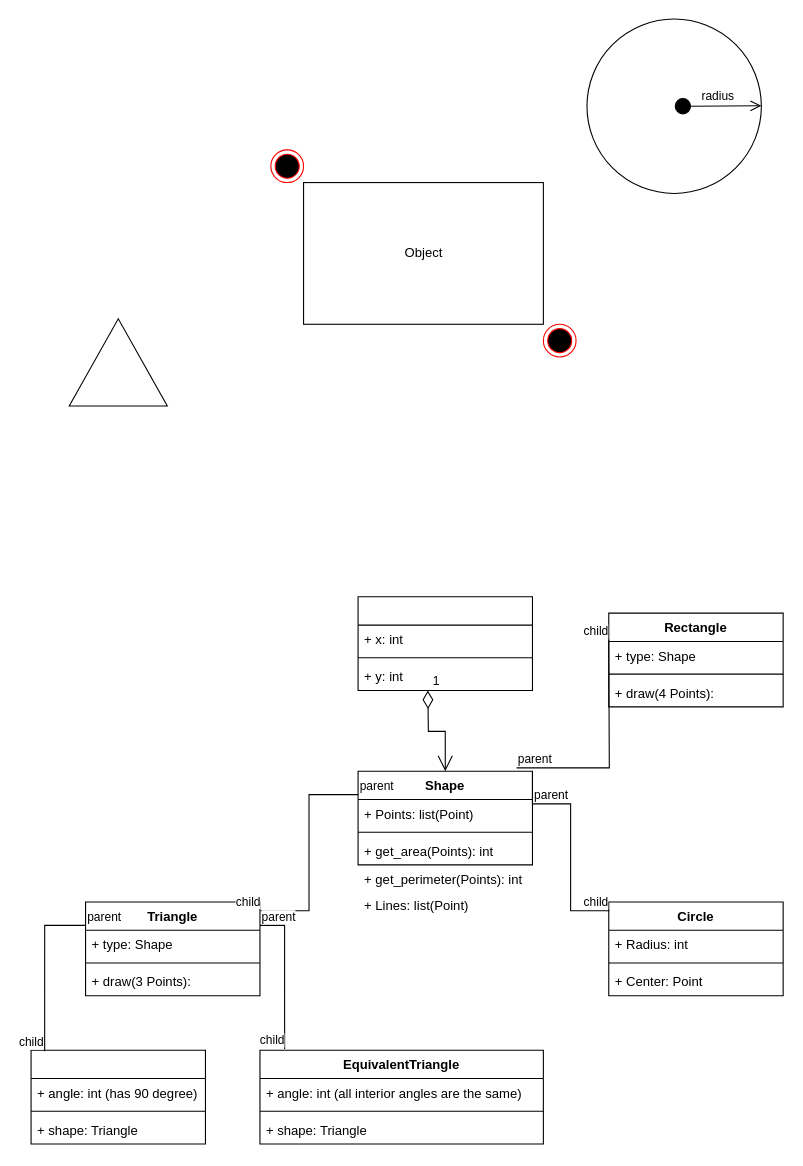
The diagram is 803 pixels wide and 1166 high, and some of its shapes have lost their labels. Each missing label, with the box of its shape:
Point: (357, 596, 532, 691)
RightTriangle: (30, 1049, 205, 1144)
Use Case: (586, 18, 761, 193)
